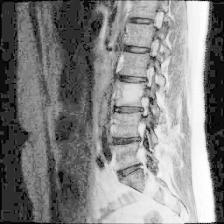disc: (113, 69, 152, 91), (124, 40, 156, 59), (129, 12, 160, 30)
hdisc: (109, 132, 145, 151), (116, 161, 148, 180), (112, 102, 145, 118)
